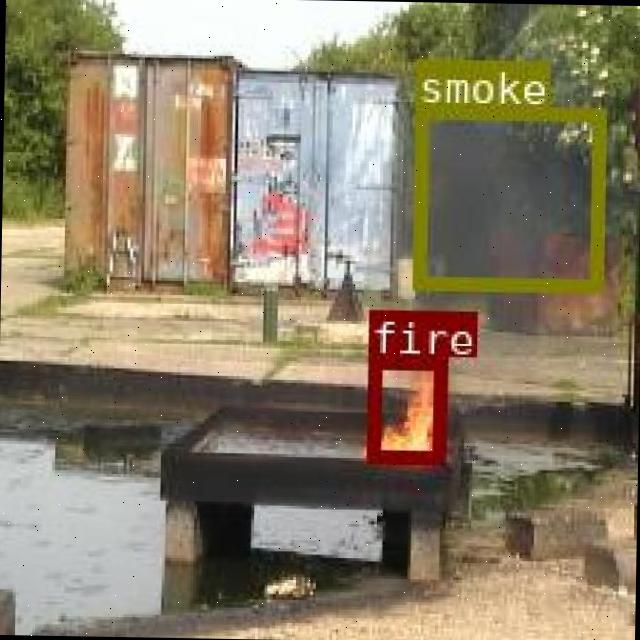fire: (364, 354, 442, 459)
smoke: (409, 103, 602, 290)
